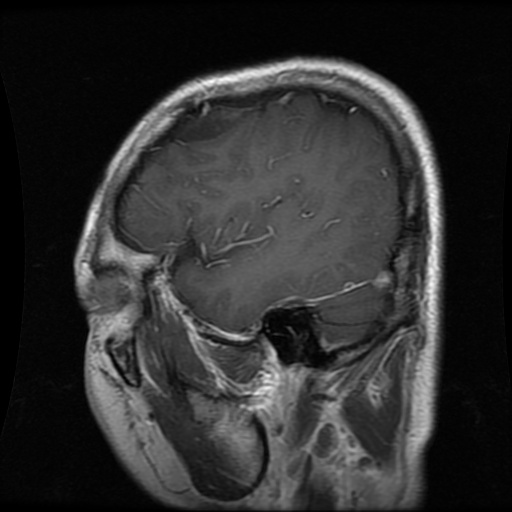glioma: (175, 112, 242, 141)
